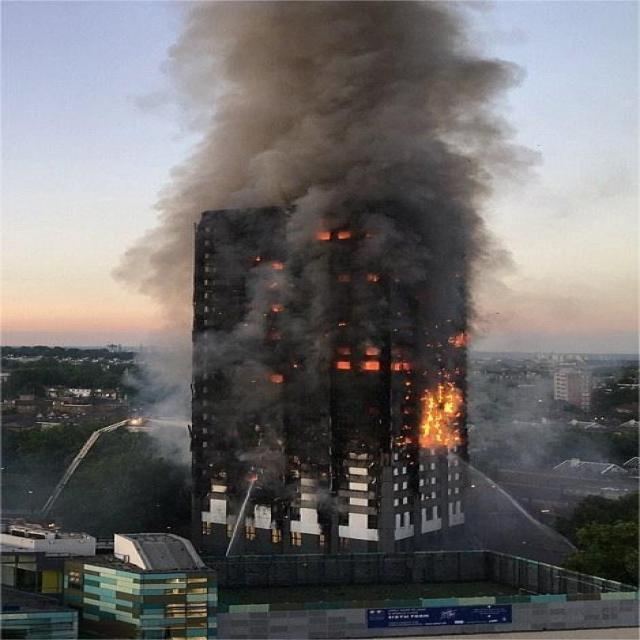Fire: (414, 373, 466, 448)
Smoke: (149, 0, 533, 210), (104, 216, 188, 464)
